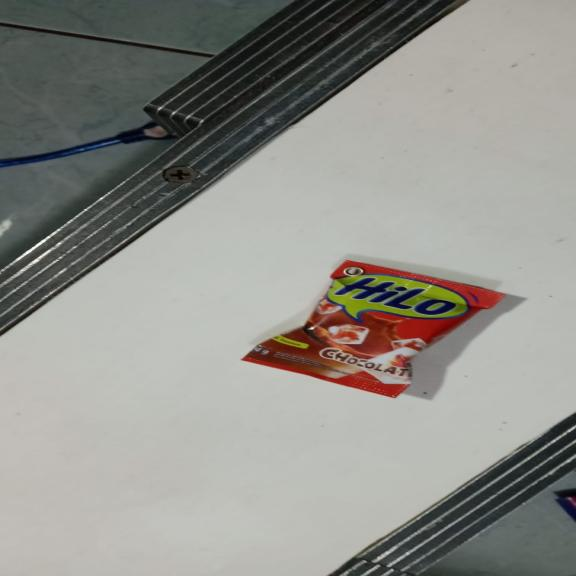Plastik: (240, 260, 504, 400)
